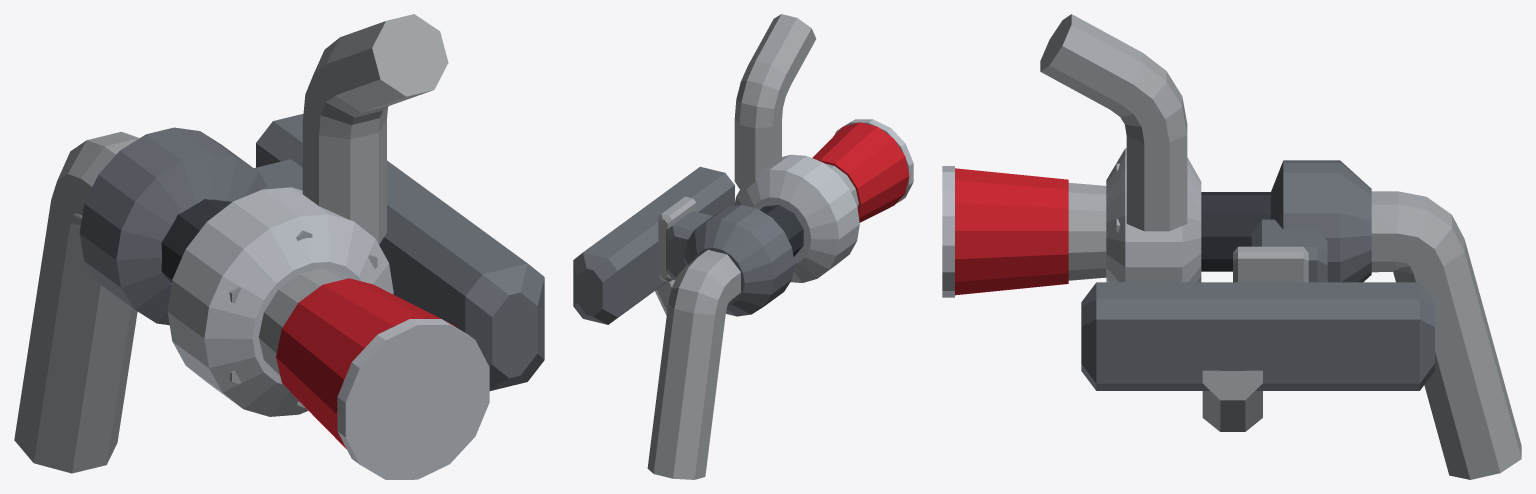
The model's file is starter_car.glb.
The picture shows the model from 3 angles, left to right: view 1: azimuth 30°, elevation 25°; view 2: azimuth 150°, elevation 25°; view 3: azimuth 270°, elevation 25°; orthographic projection. The views are drawn at different scales.
Visible parts, largest first — view 1: model; view 2: model; view 3: model.
Part boxes in pixels (x1,y1,x2,y2): model: (14, 14, 544, 479); model: (573, 14, 913, 479); model: (942, 14, 1521, 479).
Bounding box in the file's own units: 0.2316 × 0.4146 × 0.4587.
Materials: 2 (1 with a texture image).
